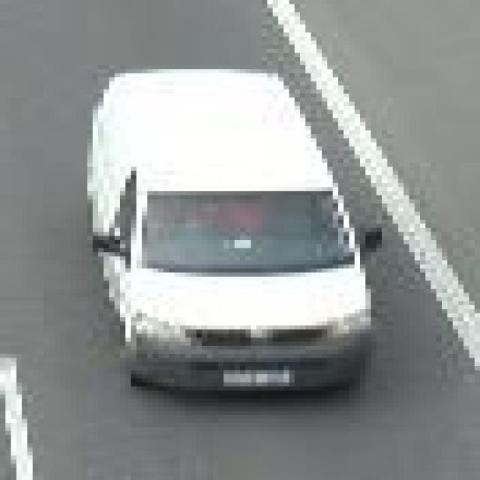van: (90, 69, 380, 399)
